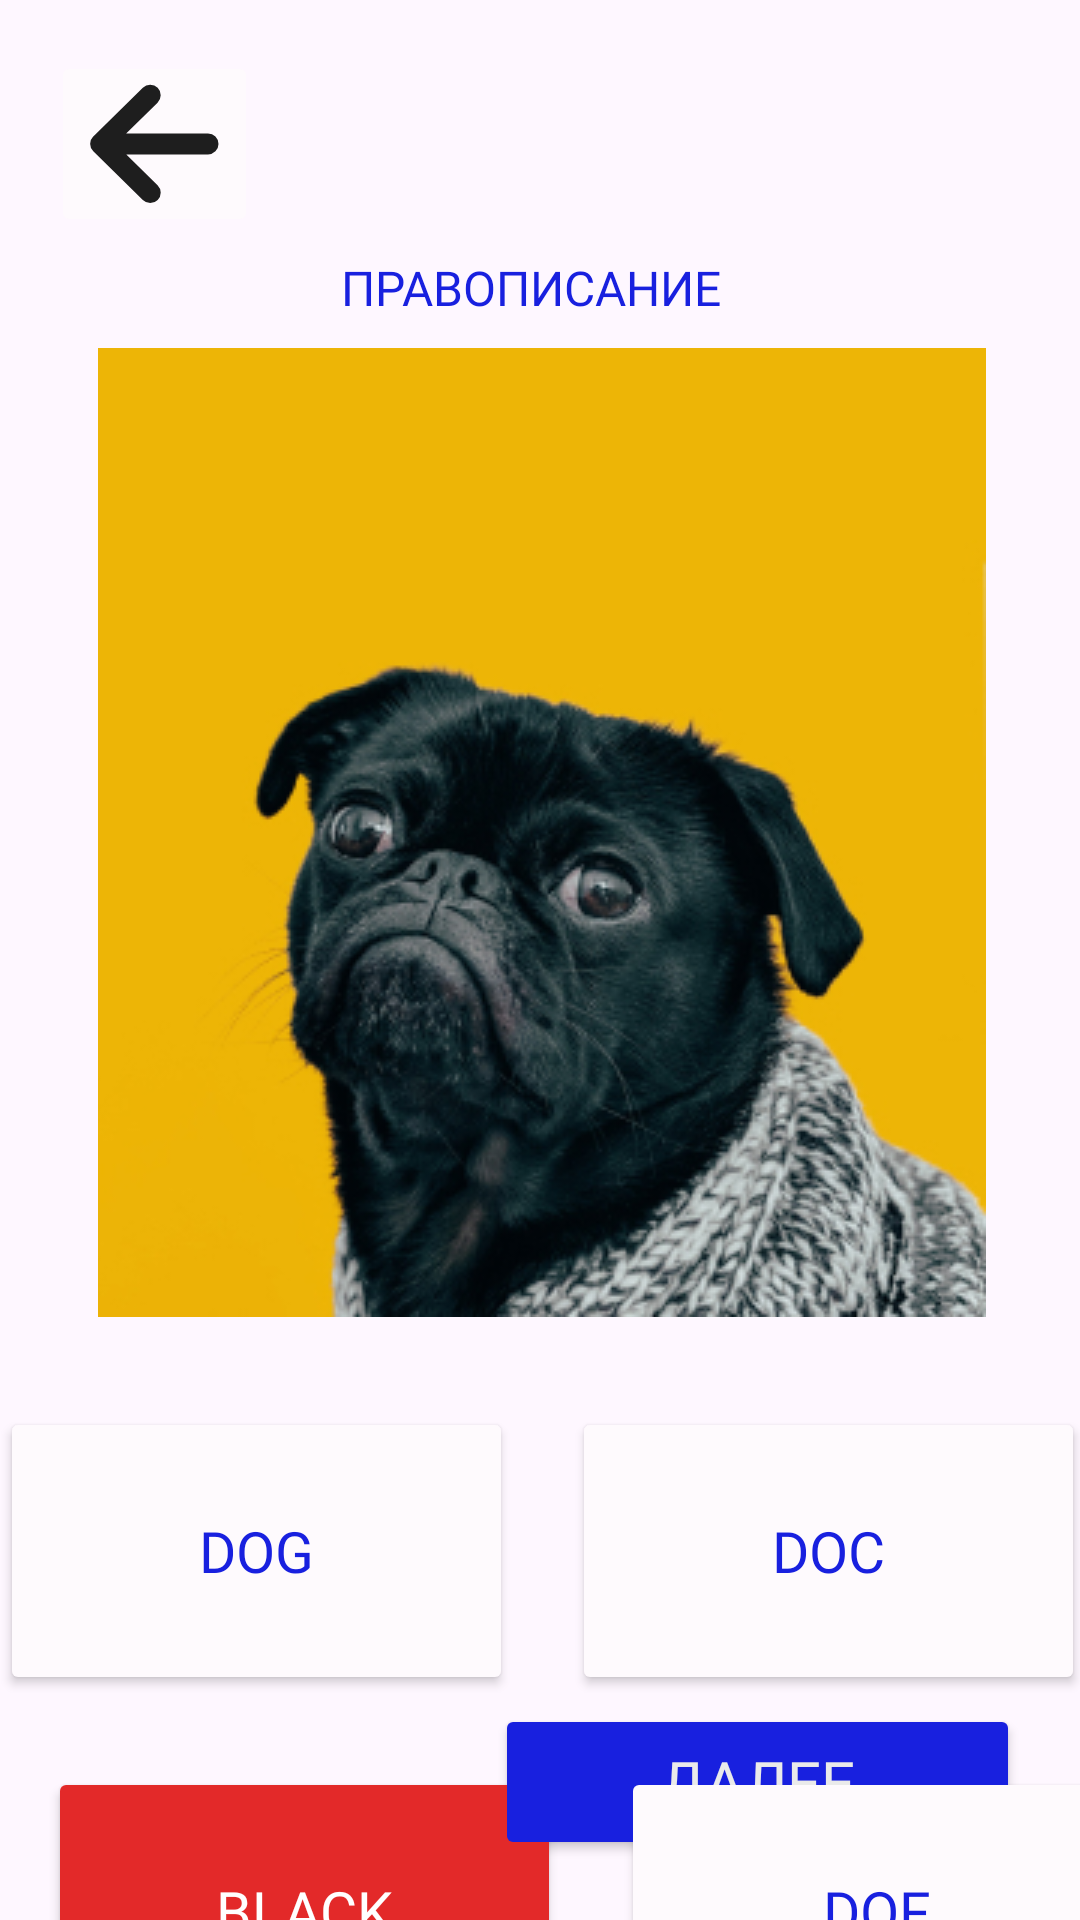

Icons on this 1080px×1920px Android screen, each with the point to tap as (x,y):
ion arrow back: (154,143)
